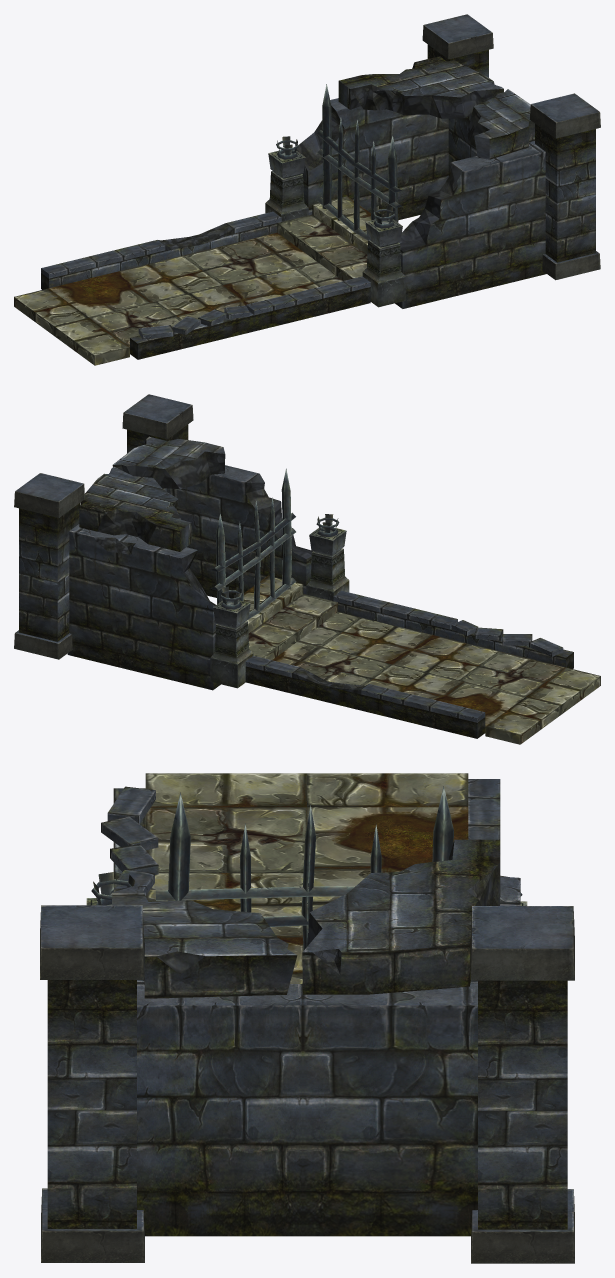
Rendered from C_bridgestart001.fbx.
3 renders of one model, top to bottom at view 1: azimuth 30°, elevation 25°; view 2: azimuth 150°, elevation 25°; view 3: azimuth 270°, elevation 25°, orthographic. The views are drawn at different scales.
Visible parts, largest first — view 1: C_bridgestart001; view 2: C_bridgestart001; view 3: C_bridgestart001.
Part boxes in pixels (left/top/right/bottom): C_bridgestart001: left=14, top=14, right=600, bottom=365; C_bridgestart001: left=14, top=394, right=600, bottom=744; C_bridgestart001: left=40, top=773, right=574, bottom=1263.
Bounding box in the file's own units: 1030 × 335 × 498.
